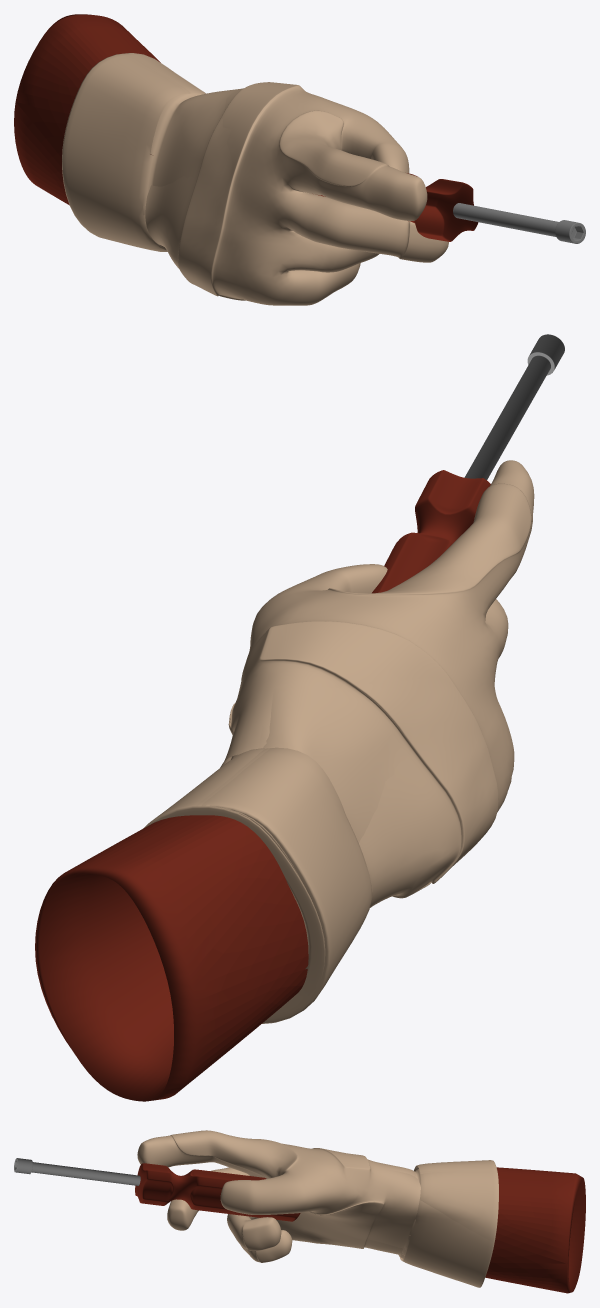
File: gloves-with screwdriver.fbx
3 views of the same model, one above another, from view 1: azimuth 30°, elevation 25°; view 2: azimuth 150°, elevation 25°; view 3: azimuth 270°, elevation 25° (orthographic). The views are drawn at different scales.
Parts seen in each view (by area): view 1: WorkGloves_RightWorkGloves, gloves.001_Cube.001, hex_head_screwdriver_body; view 2: WorkGloves_RightWorkGloves, gloves.001_Cube.001, hex_head_screwdriver_body; view 3: WorkGloves_RightWorkGloves, gloves.001_Cube.001, hex_head_screwdriver_body.
Boxes of the visible parts, x1=… form: WorkGloves_RightWorkGloves: x1=62, y1=53, x2=448, y2=305; gloves.001_Cube.001: x1=14, y1=14, x2=160, y2=205; hex_head_screwdriver_body: x1=318, y1=173, x2=585, y2=243; WorkGloves_RightWorkGloves: x1=143, y1=460, x2=534, y2=1023; gloves.001_Cube.001: x1=35, y1=815, x2=308, y2=1101; hex_head_screwdriver_body: x1=372, y1=334, x2=564, y2=593; WorkGloves_RightWorkGloves: x1=137, y1=1130, x2=498, y2=1287; gloves.001_Cube.001: x1=485, y1=1167, x2=585, y2=1293; hex_head_screwdriver_body: x1=14, y1=1158, x2=300, y2=1221.
Size of the model in its own units: 413 by 511 by 1627.
